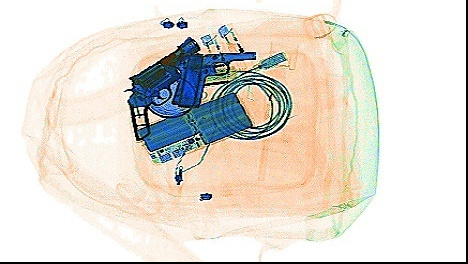lighter: (216, 20, 252, 74), (199, 31, 234, 75)
powerbank: (135, 91, 253, 165)
